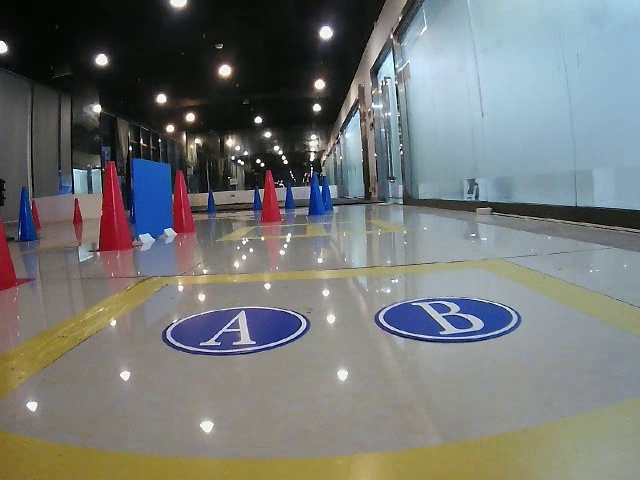A: (162, 305, 310, 352)
B: (382, 294, 516, 342)
